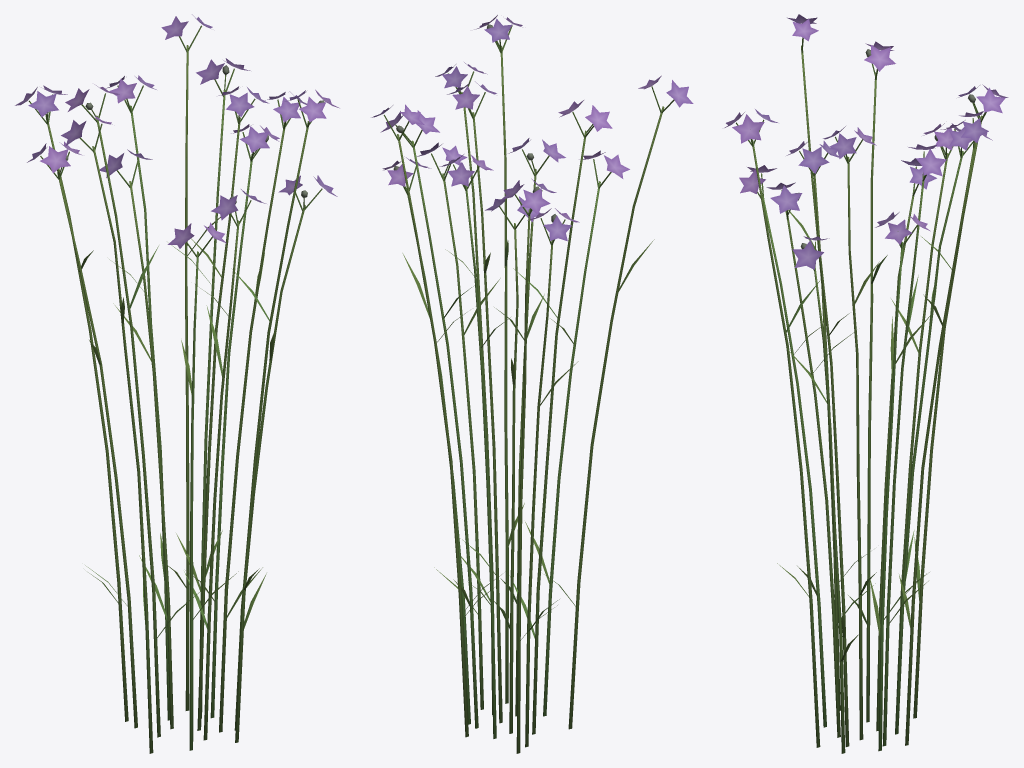
The model's file is crop_fiber_s3.glb.
The picture shows the model from 3 angles, left to right: view 1: azimuth 30°, elevation 25°; view 2: azimuth 150°, elevation 25°; view 3: azimuth 270°, elevation 25°; orthographic projection.
Visible parts, largest first — view 1: Crop_Fiber_S3; view 2: Crop_Fiber_S3; view 3: Crop_Fiber_S3.
Boxes of the visible parts, <box> form: Crop_Fiber_S3: <box>15,14,339,753</box>; Crop_Fiber_S3: <box>371,15,693,753</box>; Crop_Fiber_S3: <box>724,14,1008,753</box>.
Bounding box in the file's own units: 0.4554 × 1.05 × 0.4161.
